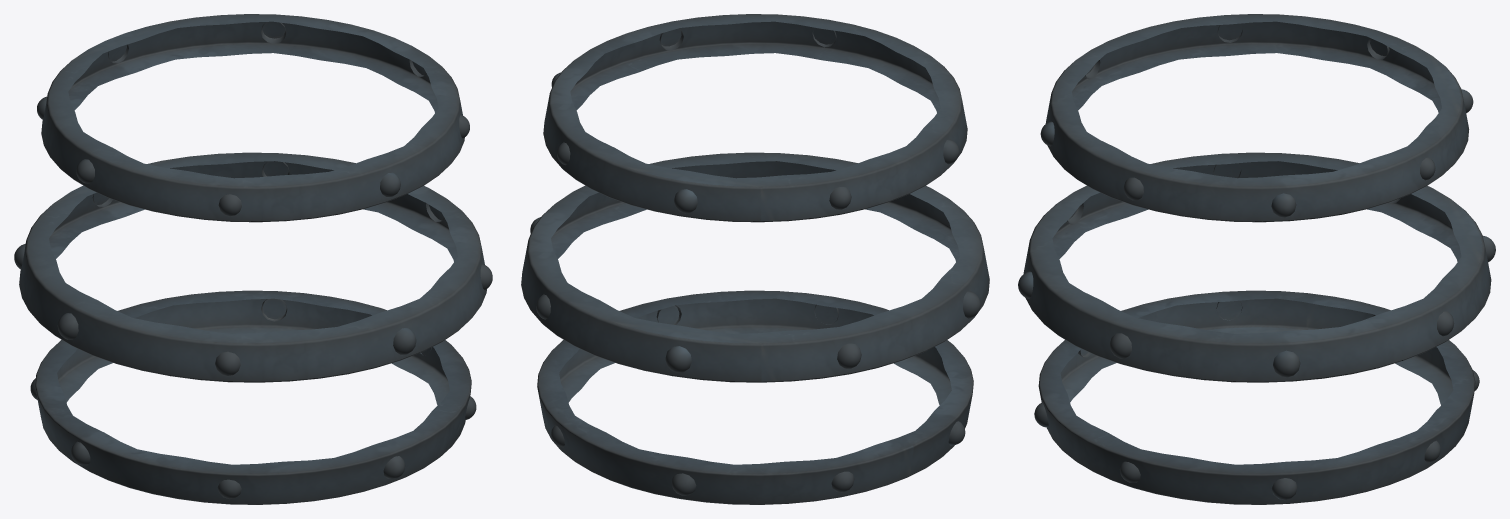
3 renders of one model, left to right at view 1: azimuth 30°, elevation 25°; view 2: azimuth 150°, elevation 25°; view 3: azimuth 270°, elevation 25°, orthographic.
Parts seen in each view (by area): view 1: Cylinder.061; view 2: Cylinder.061; view 3: Cylinder.061.
Part boxes in pixels (x1=…): Cylinder.061: x1=14, y1=14, x2=492, y2=504; Cylinder.061: x1=521, y1=14, x2=989, y2=504; Cylinder.061: x1=1018, y1=14, x2=1495, y2=504.
Size of the model in its own units: 145 by 105 by 144.
Materials: 1 (1 with a texture image).
